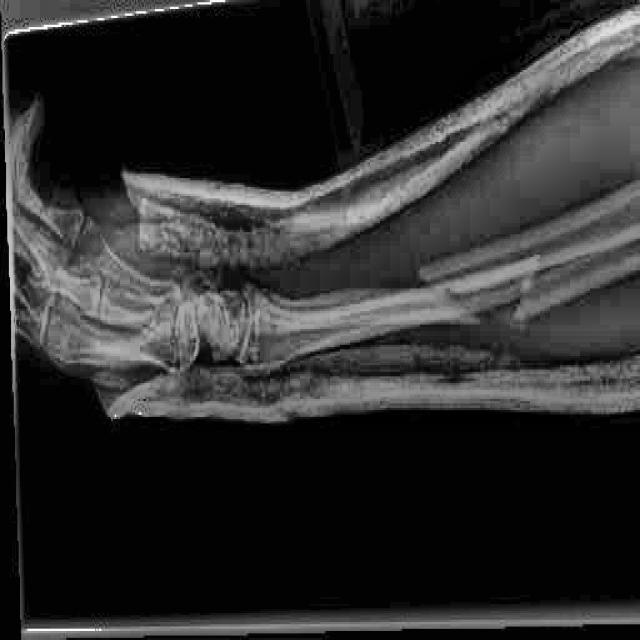forearm fracture: (397, 231, 503, 351), (492, 239, 564, 341)
